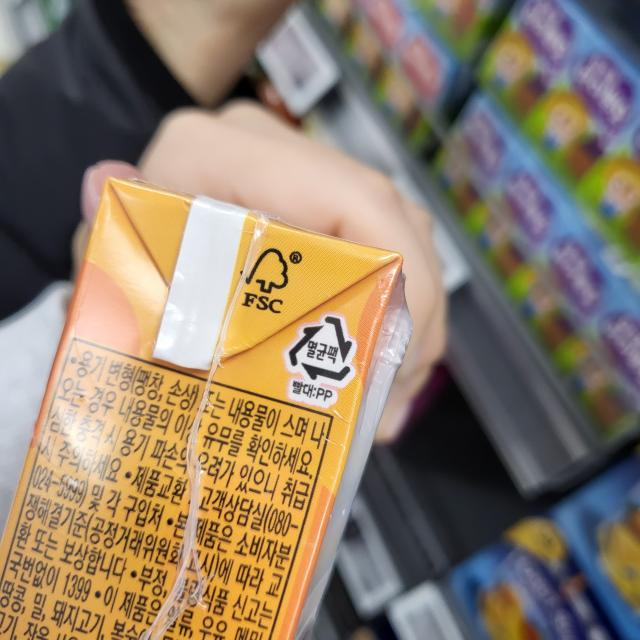SterilizedPack: (285, 309, 359, 387)
